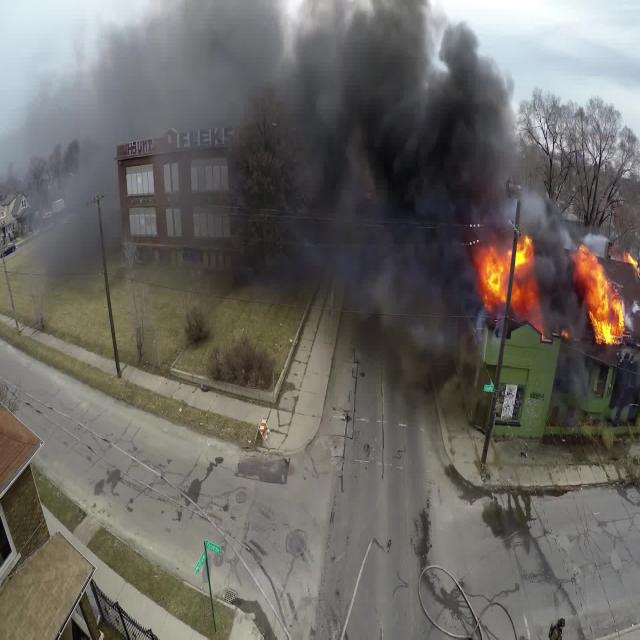Fire: (472, 205, 544, 343), (563, 234, 640, 346)
Smoke: (0, 0, 640, 429)
